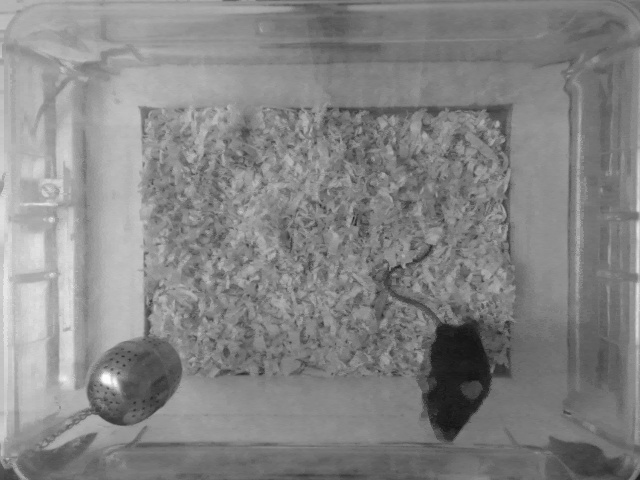mice: (380, 245, 493, 447)
